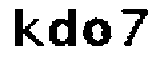7: (118, 4, 150, 46)
d: (45, 7, 79, 52)
k: (10, 5, 43, 51)
o: (80, 15, 115, 50)
